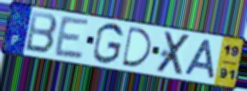A: (183, 38, 217, 81)
B: (23, 10, 59, 56)
D: (121, 25, 153, 69)
E: (53, 15, 92, 62)
G: (91, 21, 125, 66)
X: (154, 30, 193, 77)
